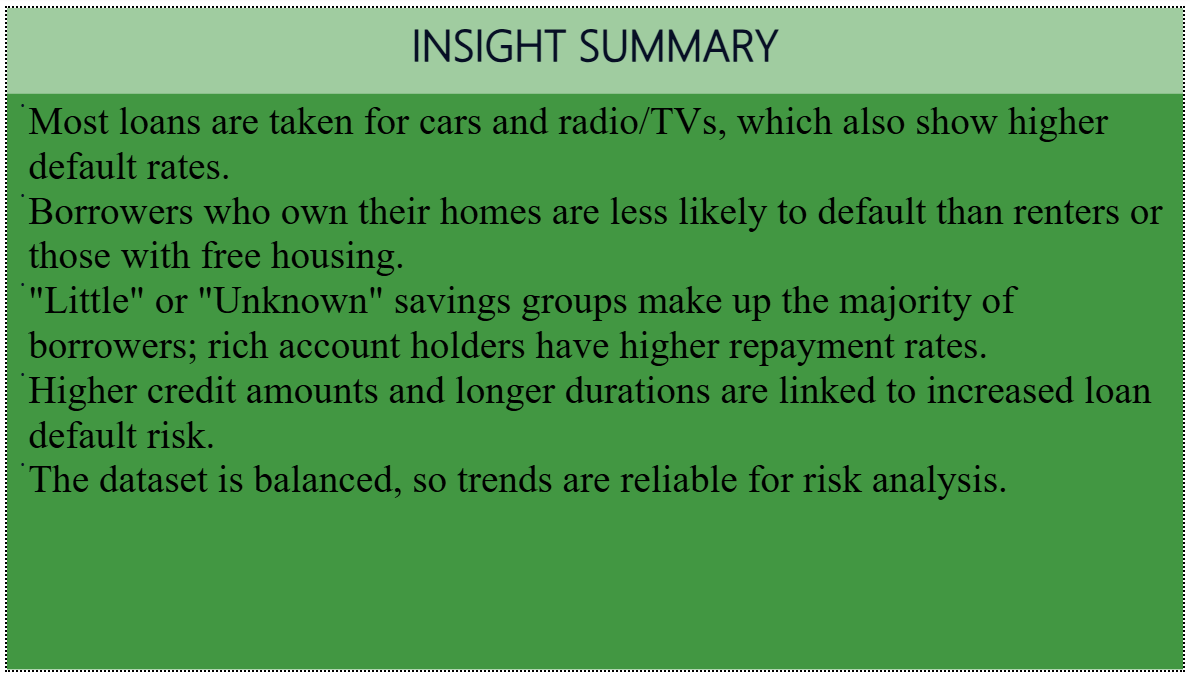

The dashboard page shown, as its layout file describes it:
{"tool":"powerbi","page":{"name":"Summary","canvas":[1280,720],"ordinal":8},"visuals":[{"type":"textbox","box":[0,92.9,1280,627.1],"z":0},{"type":"textbox","box":[0,0,1280,92.9],"z":1000}]}

Visuals, with their boxes in screenshot pixels (x1, y1, x2, y2), scaled from the page's 1280x720 canvas onto the 1190x677 screenshot:
textbox: rect(0, 87, 1189, 676)
textbox: rect(0, 0, 1189, 87)
